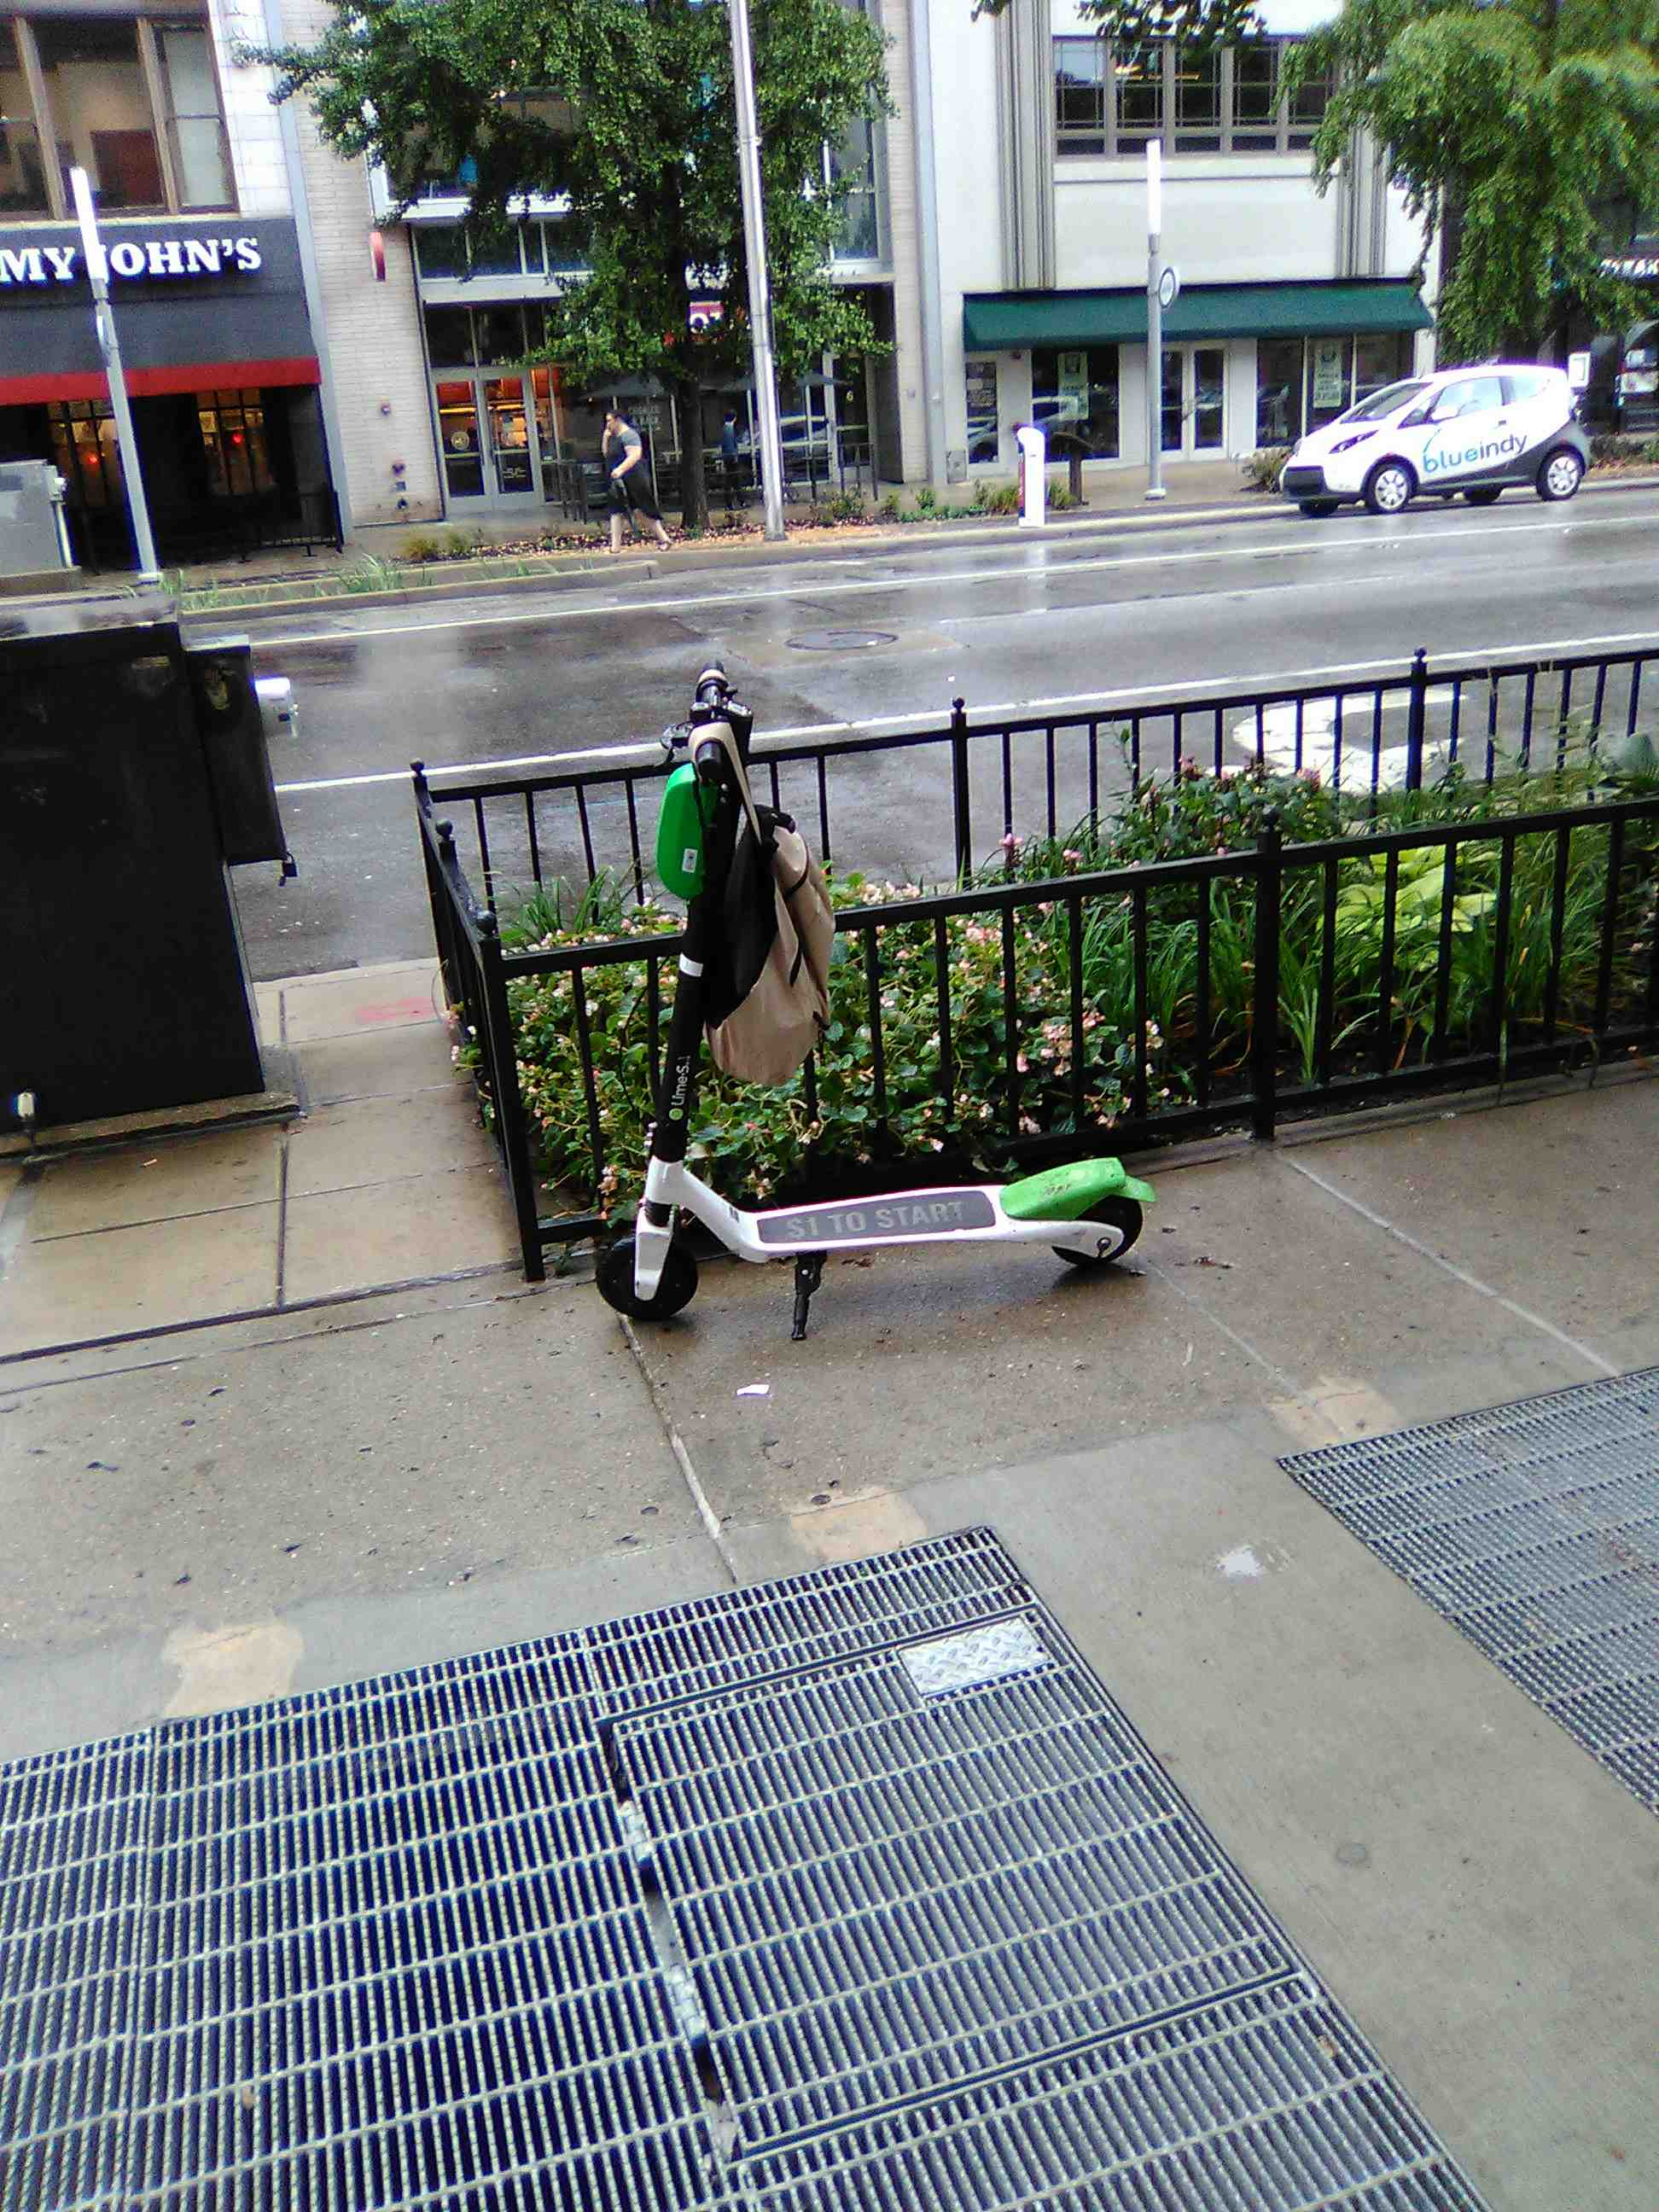scooter: (545, 620, 1185, 1339)
